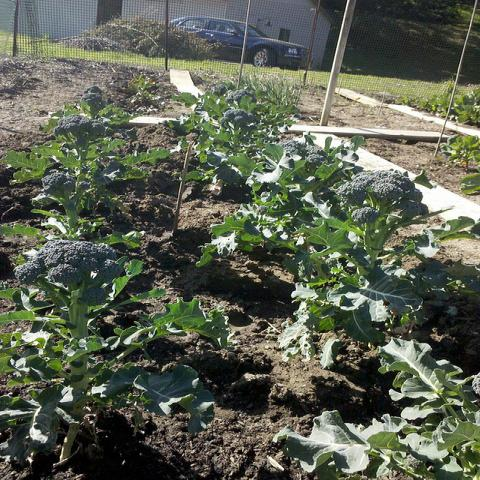car: (170, 15, 314, 68)
